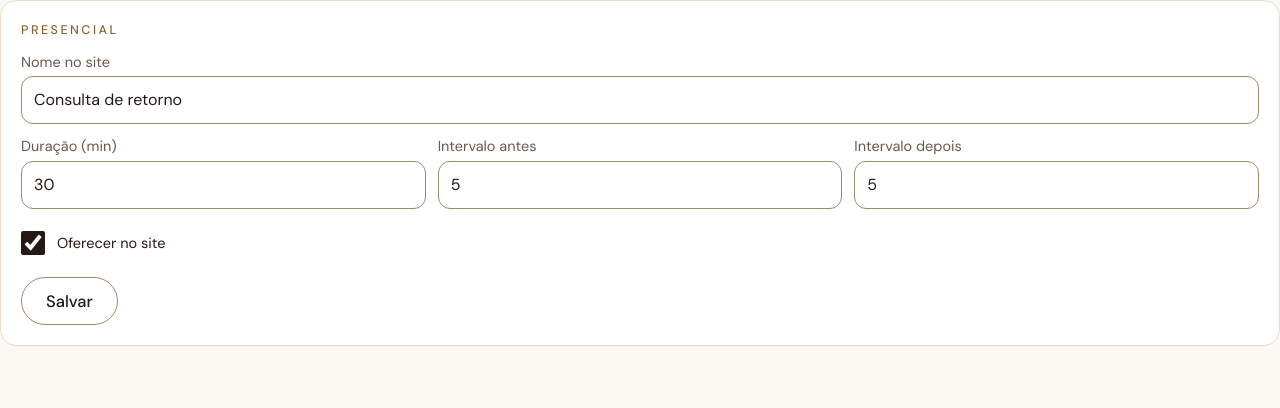
Scenario: <FormTipo> › envia o id oculto e os campos editados
The image size is (1280, 408).
Step 1. Replace the text in the field labelled "Nome no site" with "Primeira consulta" → (640, 100), box [21, 76, 1259, 124]
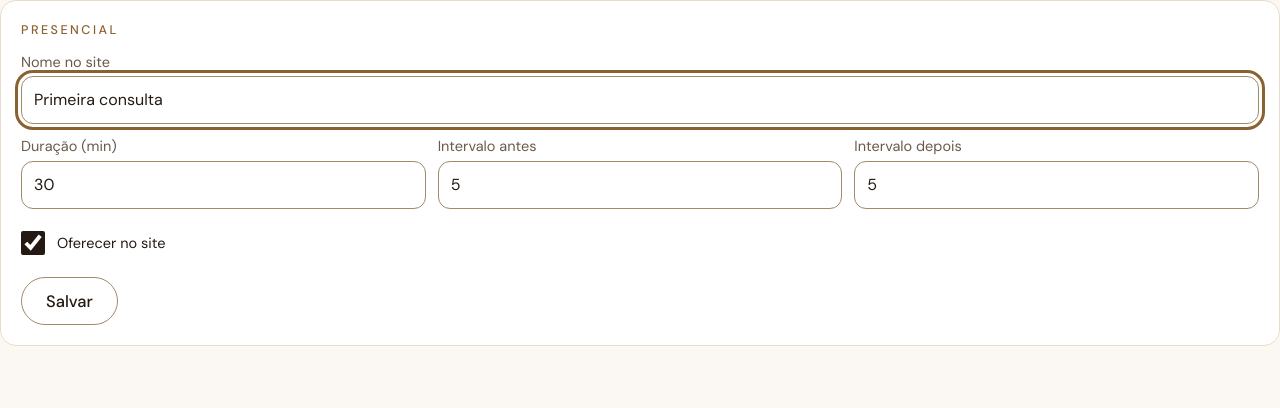
Step 2. Click the checkbox labelled "Oferecer no site" → (33, 243), box [21, 221, 45, 265]
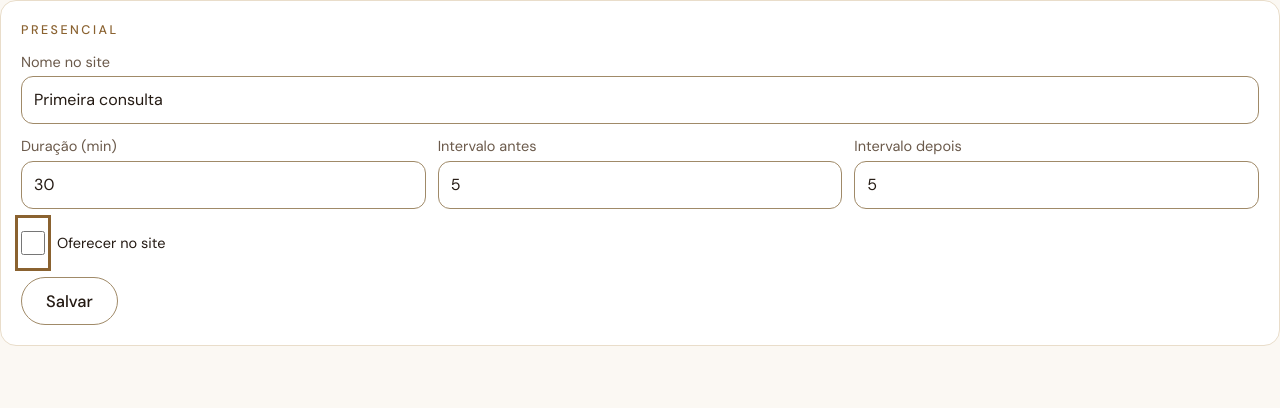
Step 3. Click the button "Salvar" → (69, 301), box [21, 277, 118, 325]
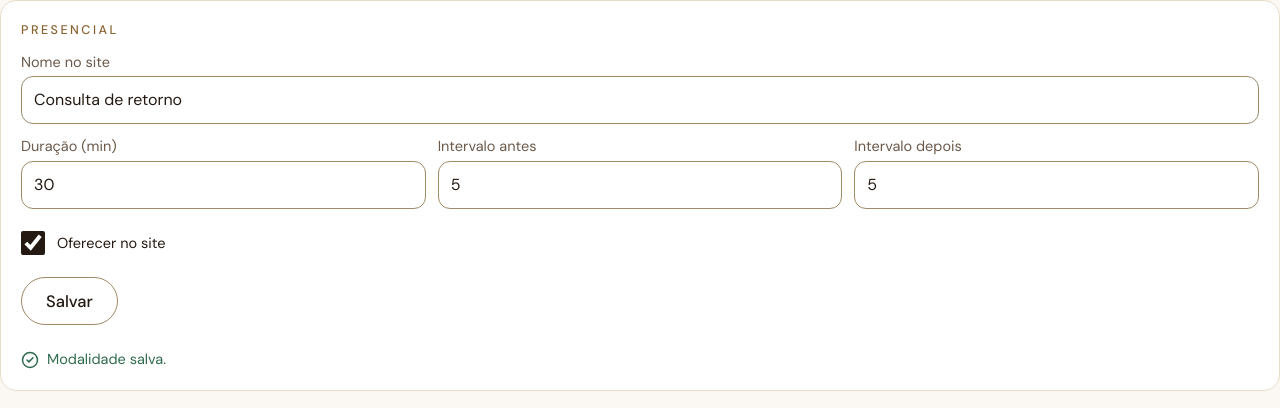
Expected: the message reads "Modalidade salva.", [47, 350, 166, 368]
